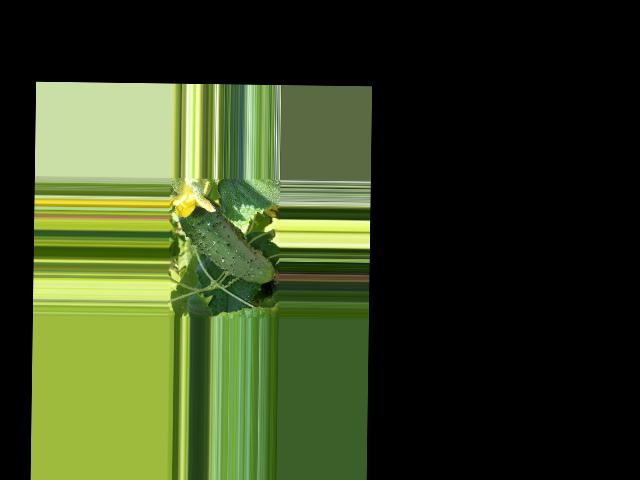cucumber: (177, 195, 281, 284)
